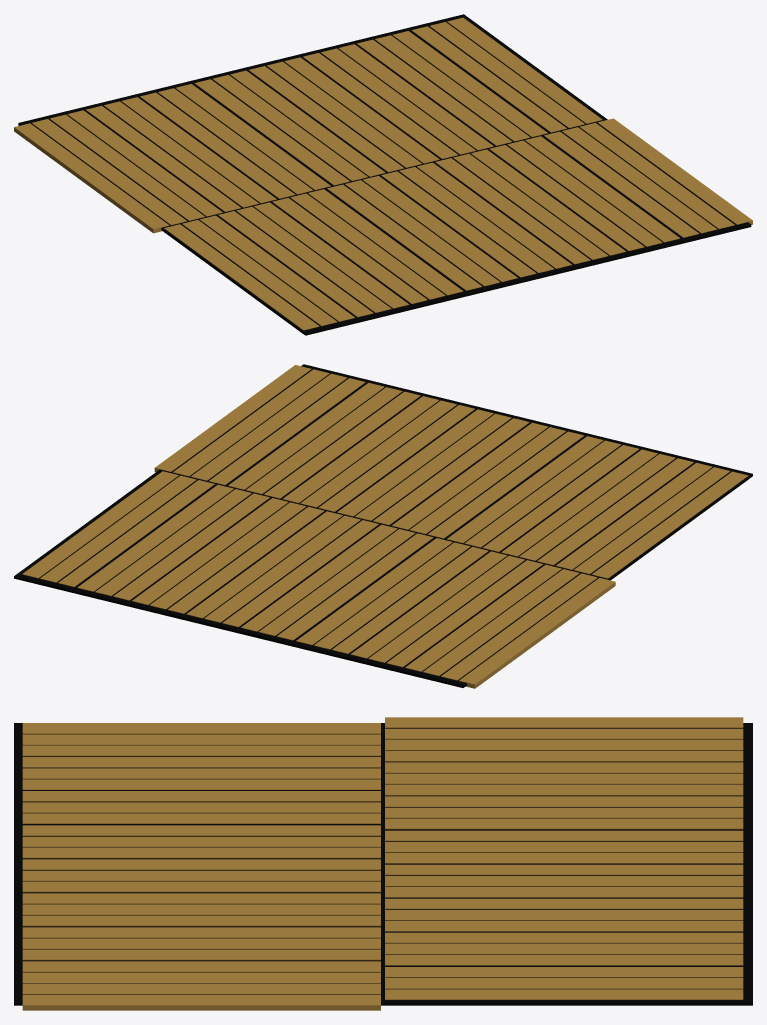
File: Plancher.fbx
The picture shows the model from 3 angles, top to bottom: view 1: azimuth 30°, elevation 25°; view 2: azimuth 150°, elevation 25°; view 3: azimuth 270°, elevation 25°; orthographic projection. The views are drawn at different scales.
Visible parts, largest first — view 1: pCube49, pCube51, pCube33, pCube50, pCube4, pCube16, pCube26, pCube41, pCube42, pCube8, pCube13, pCube18 (+39 smaller); view 2: pCube49, pCube51, pCube33, pCube50, pCube42, pCube2, pCube5, pCube7, pCube9, pCube14, pCube16, pCube18 (+39 smaller); view 3: pCube49, pCube50, pCube8, pCube16, pCube20, pCube22, pCube23, pCube26, pCube27, pCube29, pCube38, pCube1 (+39 smaller).
Part boxes in pixels (x1,y1,x2,y2): pCube49: (18,14,751,335); pCube51: (14,123,169,233); pCube33: (164,224,319,333); pCube50: (597,118,752,224); pCube4: (338,44,493,150); pCube16: (453,153,608,259); pCube26: (49,114,204,220); pCube41: (327,184,482,290); pCube42: (290,193,445,299); pCube8: (375,35,530,141); pCube13: (416,162,571,268); pCube18: (381,171,536,277); pCube49: (14,364,752,687); pCube51: (459,578,615,688); pCube33: (591,471,748,578); pCube50: (154,365,311,472); pCube42: (464,440,621,547); pCube2: (204,515,360,622); pCube5: (149,502,306,609); pCube7: (77,484,233,591); pCube9: (113,493,269,600); pCube14: (355,413,511,520); pCube16: (300,400,456,507); pCube18: (373,418,529,525); pCube49: (14,723,752,1005); pCube50: (22,995,380,1010); pCube8: (385,943,743,954); pCube16: (22,904,380,915); pCube20: (22,938,380,949); pCube22: (22,983,380,994); pCube23: (22,961,380,972); pCube26: (385,739,743,750); pCube27: (385,762,743,773); pCube29: (385,784,743,795); pCube38: (22,745,380,756); pCube1: (385,864,743,875).
Size of the model in its own units: 56.98 by 0.5 by 61.84.
